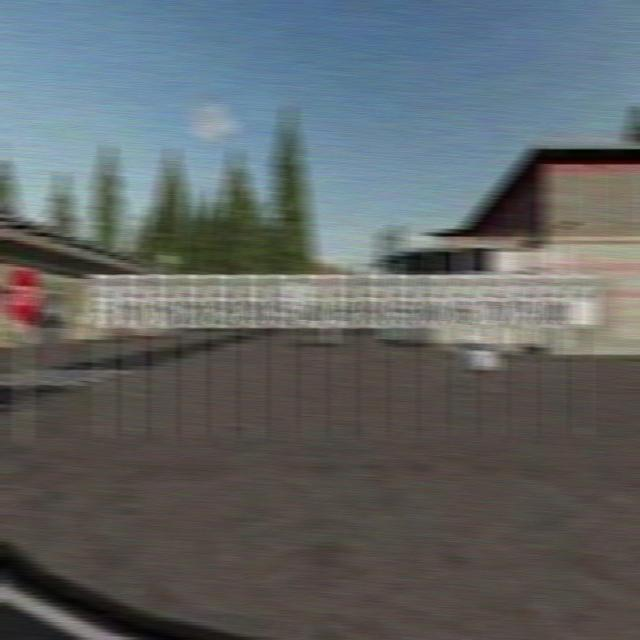speedLimit15: (147, 272, 177, 334)
speedLimit20: (180, 274, 206, 328)
speedLimit25: (209, 272, 237, 330)
speedLimit30: (236, 270, 267, 328)
speedLimit35: (267, 270, 298, 328)
speedLimit40: (298, 268, 327, 329)
speedLimit45: (329, 270, 360, 328)
speedLimit50: (357, 272, 388, 326)
speedLimit55: (387, 272, 419, 326)
speedLimit60: (416, 272, 452, 326)
speedLimit65: (447, 274, 479, 328)
speedLimit70: (477, 263, 509, 335)
speedLimit75: (505, 274, 540, 324)
speedLimit80: (538, 276, 573, 334)
